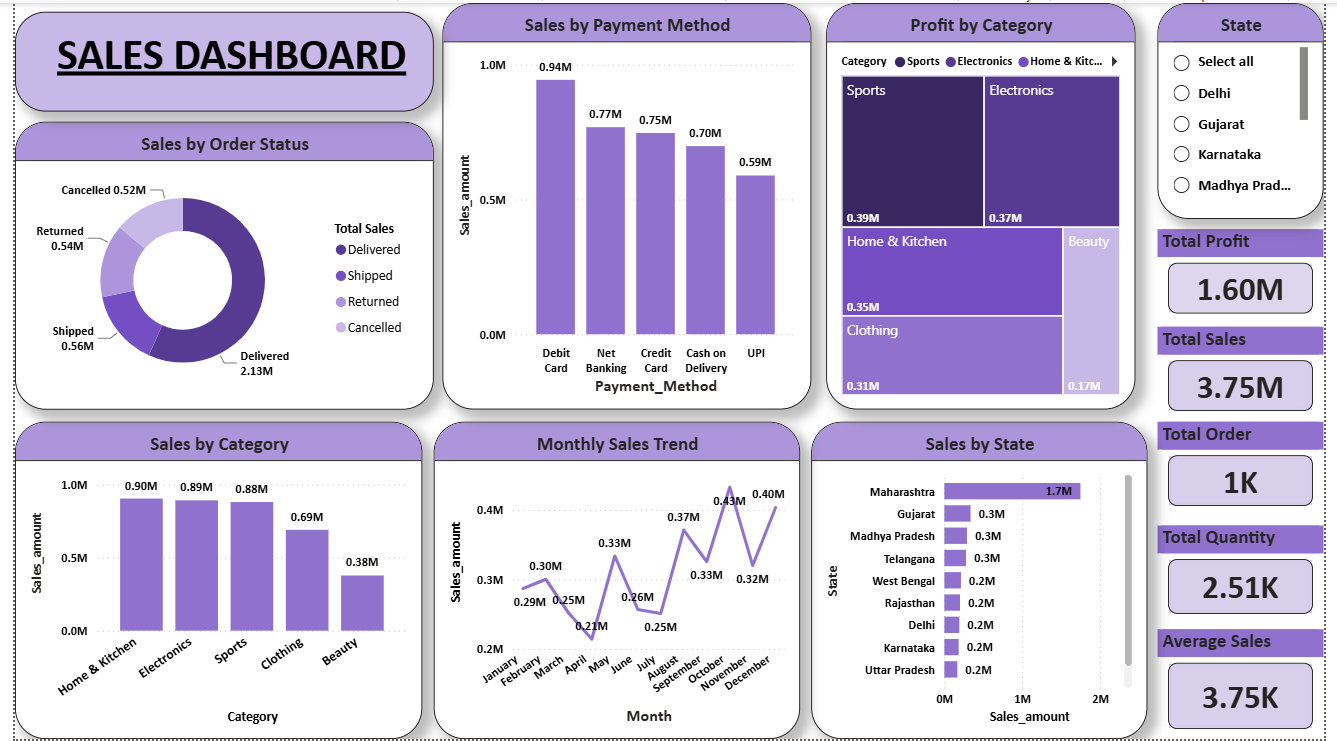

The dashboard page shown, as its layout file describes it:
{"tool":"powerbi","page":{"name":"Sales Overview","canvas":[1280,720],"ordinal":0},"visuals":[{"type":"cardVisual","title":"Total Sales","fields":{"Data":["Sum(ecommerce_project ecommerce_clean.Sales_Amount)"]},"box":[1117.7,316.7,162.6,92.9],"z":0},{"type":"cardVisual","title":"Total Profit","fields":{"Data":["Sum(ecommerce_project ecommerce_clean.Profit)"]},"box":[1117.7,221.3,162.6,92.9],"z":1000},{"type":"cardVisual","title":"Total Order","fields":{"Data":["CountNonNull(ecommerce_project ecommerce_clean.Order_ID)"]},"box":[1117.7,409.6,162.6,92.9],"z":2000},{"type":"cardVisual","title":"Total Quantity","fields":{"Data":["Sum(ecommerce_project ecommerce_clean.Quantity)"]},"box":[1117.7,511.1,162.6,96.6],"z":3000},{"type":"cardVisual","title":"Average Sales","fields":{"Data":["Avg(ecommerce_project ecommerce_clean.Sales_Amount)"]},"box":[1117.7,612.6,162.6,107.6],"z":4000},{"type":"clusteredColumnChart","title":"Sales by Category","fields":{"Category":["ecommerce_project ecommerce_clean.Category"],"Y":["Sum(ecommerce_project ecommerce_clean.Sales_Amount)"]},"box":[0,409.6,398.6,310.6],"z":5000},{"type":"clusteredBarChart","title":"Sales by State","fields":{"Category":["ecommerce_project ecommerce_clean.State"],"Y":["Sum(ecommerce_project ecommerce_clean.Sales_Amount)"]},"box":[778.9,409.6,328.9,310.6],"z":6000},{"type":"donutChart","title":"Sales by Order Status","fields":{"Category":["ecommerce_project ecommerce_clean.Order_Status"],"Y":["Sum(ecommerce_project ecommerce_clean.Sales_Amount)"]},"box":[0,116.2,409.6,281.3],"z":7000},{"type":"lineChart","title":"Monthly Sales Trend","fields":{"Category":["ecommerce_project ecommerce_clean.Order_Date.Variation.Date Hierarchy.Month"],"Y":["Sum(ecommerce_project ecommerce_clean.Sales_Amount)"]},"box":[409.6,409.6,358.3,310.6],"z":8000},{"type":"clusteredColumnChart","title":"Sales by Payment Method","fields":{"Category":["ecommerce_project ecommerce_clean.Payment_Method"],"Y":["Sum(ecommerce_project ecommerce_clean.Sales_Amount)"]},"box":[418.2,0,360.7,397.4],"z":9000},{"type":"listSlicer","fields":{"Values":["ecommerce_project ecommerce_clean.State"]},"box":[1117.7,0,162.6,211.6],"z":10000},{"type":"treemap","title":"Profit by Category","fields":{"Group":["ecommerce_project ecommerce_clean.Category"],"Values":["Sum(ecommerce_project ecommerce_clean.Profit)"]},"box":[793.6,0,302,397.4],"z":11000},{"type":"textbox","box":[0,8.6,409.6,97.8],"z":12000}]}

Visuals, with their boxes in screenshot pixels (x1, y1, x2, y2), scaled from the page's 1280x720 canvas onto the 1337x741 screenshot:
"Total Sales" cardVisual: [1167, 326, 1336, 422]
"Total Profit" cardVisual: [1167, 228, 1336, 323]
"Total Order" cardVisual: [1167, 422, 1336, 517]
"Total Quantity" cardVisual: [1167, 526, 1336, 625]
"Average Sales" cardVisual: [1167, 630, 1336, 740]
"Sales by Category" clusteredColumnChart: [0, 422, 416, 740]
"Sales by State" clusteredBarChart: [814, 422, 1157, 740]
"Sales by Order Status" donutChart: [0, 120, 428, 409]
"Monthly Sales Trend" lineChart: [428, 422, 802, 740]
"Sales by Payment Method" clusteredColumnChart: [437, 0, 814, 409]
listSlicer - ecommerce_project ecommerce_clean.State: [1167, 0, 1336, 218]
"Profit by Category" treemap: [829, 0, 1144, 409]
textbox: [0, 9, 428, 110]
